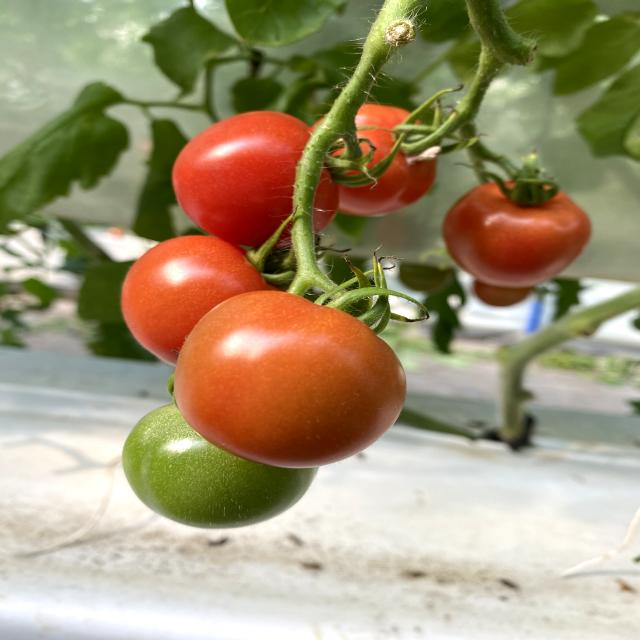ripe0: (121, 457, 312, 527)
ripe2: (174, 290, 408, 466), (171, 111, 338, 245), (441, 178, 593, 287), (119, 233, 239, 362)
